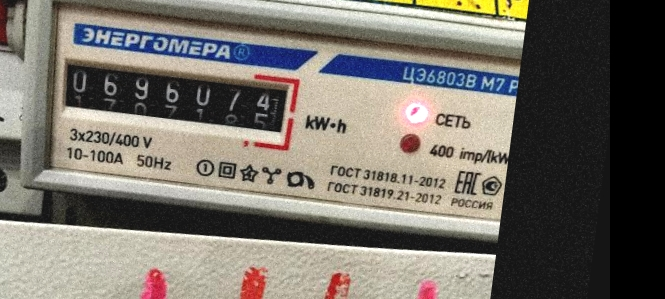0: (66, 66, 88, 93), (193, 79, 212, 107)
4: (253, 86, 272, 112)
5: (251, 110, 268, 130)
6: (99, 68, 121, 97), (161, 77, 181, 103)
7: (221, 84, 242, 112)
9: (129, 73, 151, 100)
screen: (44, 42, 304, 155)
